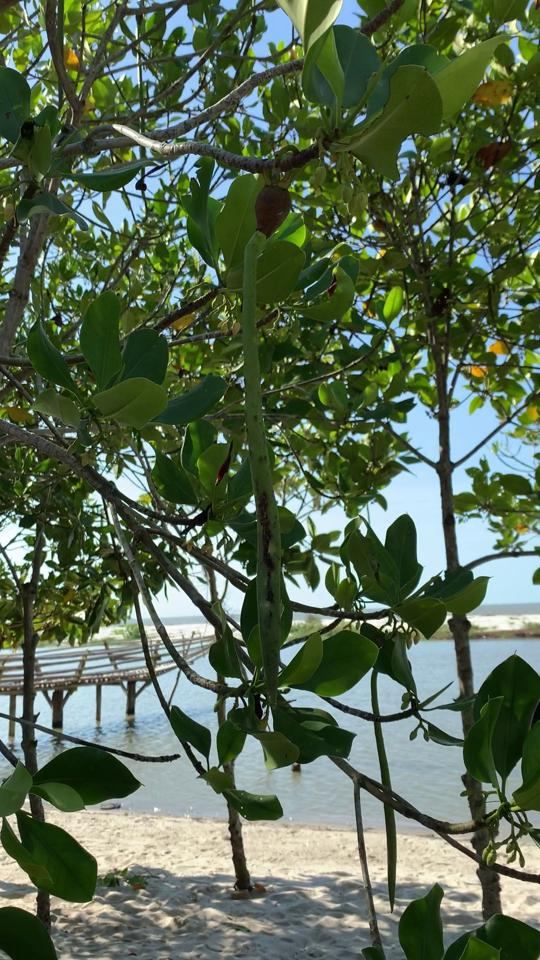setengah matang: (234, 170, 304, 714)
